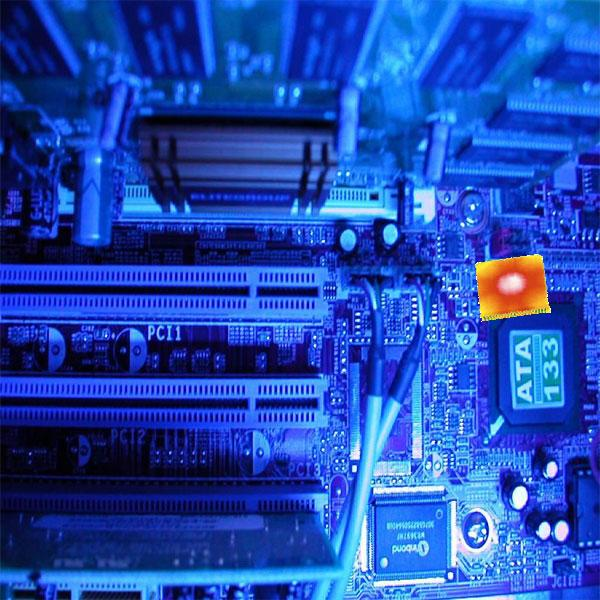componente_T: (467, 250, 555, 322)
